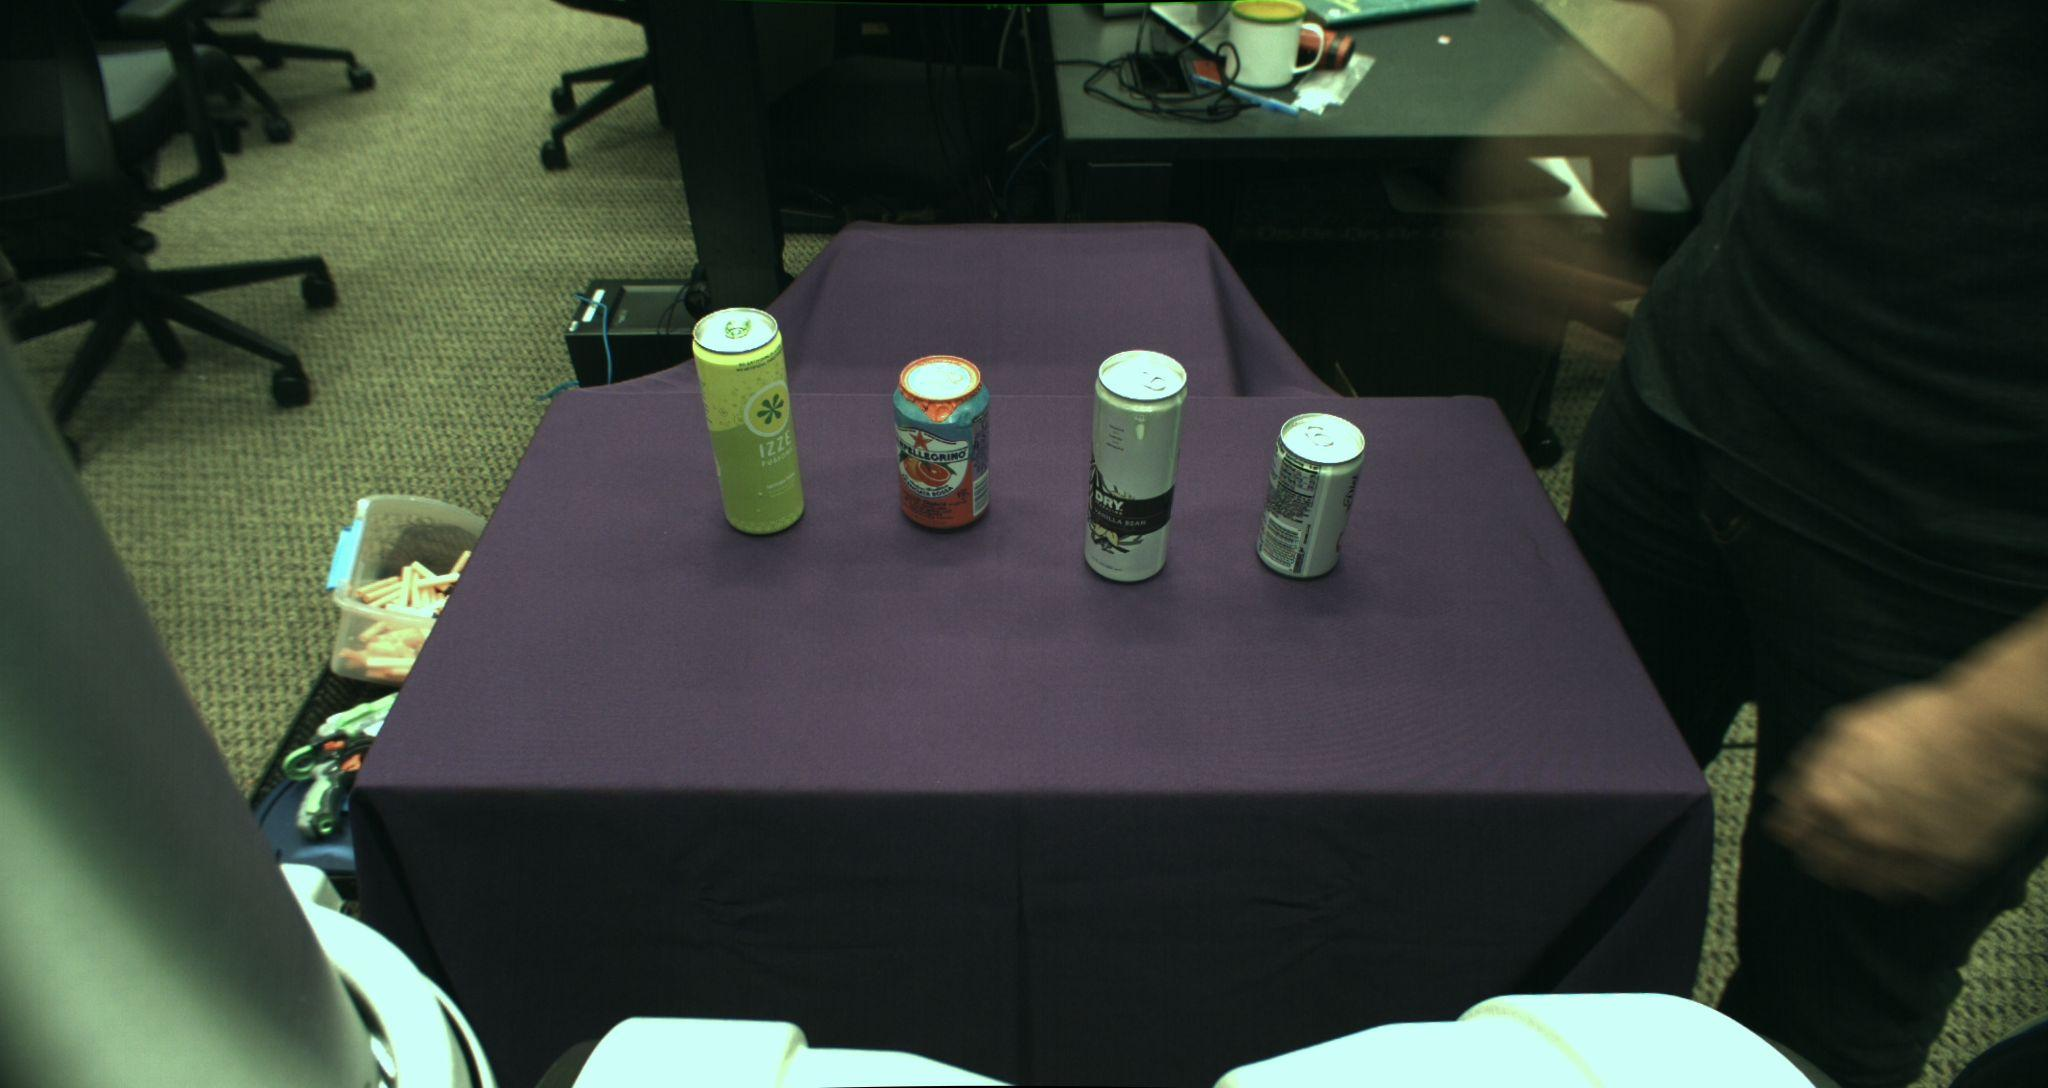can_diet_coke_small: (1257, 412, 1365, 579)
can_dry_sparkling_vanilla_bean: (1084, 348, 1187, 584)
can_izze_fusions_lemon_lime: (691, 308, 806, 537)
can_sanpellegrino_blood_orange: (891, 352, 993, 530)
